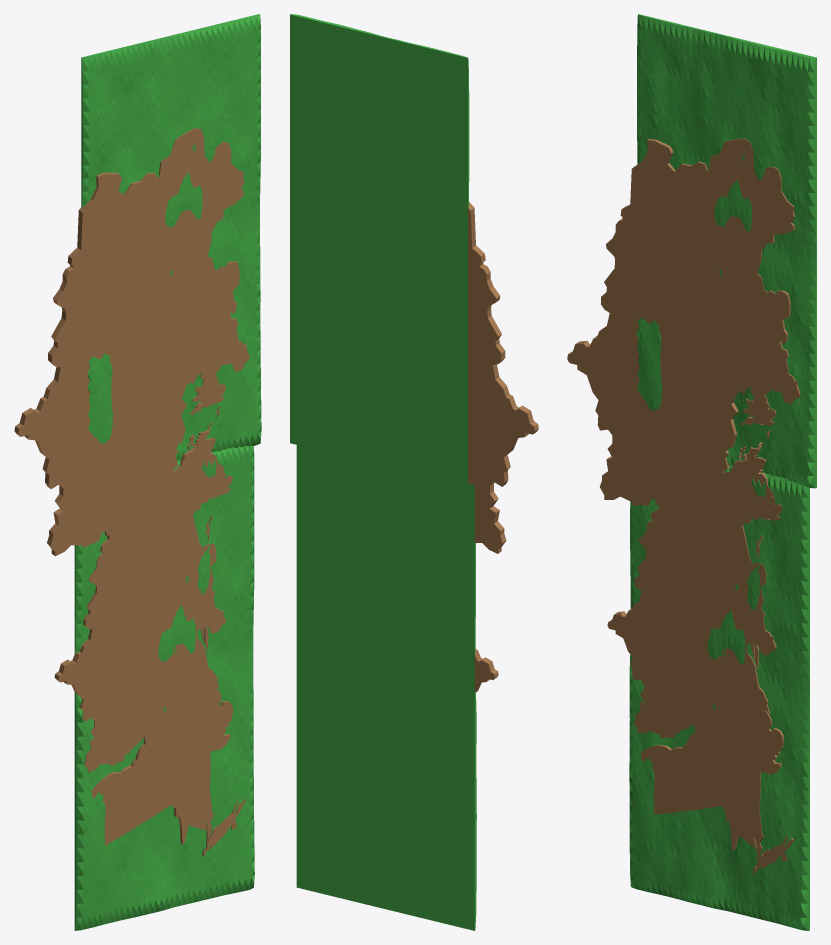
Rendered from tinker.obj.
3 views of the same model, side by side, from view 1: azimuth 30°, elevation 25°; view 2: azimuth 150°, elevation 25°; view 3: azimuth 330°, elevation 25° (orthographic).
Visible parts, largest first — view 1: group_0_11107152, group_0_4634441; view 2: group_0_4634441, group_0_11107152; view 3: group_0_11107152, group_0_4634441.
Boxes of the visible parts, <box> form: group_0_11107152: <box>14,128,249,856</box>; group_0_4634441: <box>74,14,261,930</box>; group_0_4634441: <box>290,14,476,930</box>; group_0_11107152: <box>468,202,538,692</box>; group_0_11107152: <box>567,138,800,873</box>; group_0_4634441: <box>629,14,816,930</box>.
Bounding box in the file's own units: 72.96 × 248 × 2.36.
